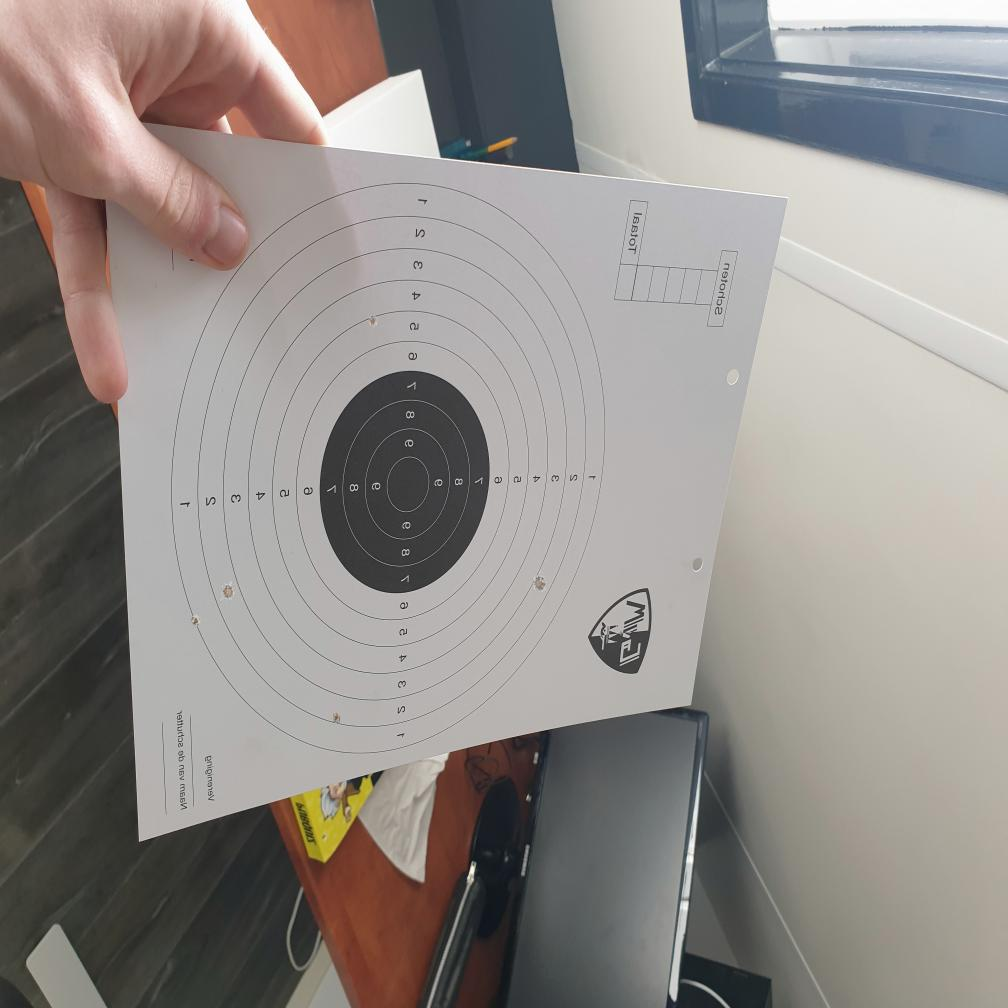1: (190, 613, 200, 627)
2: (221, 581, 235, 602), (330, 712, 341, 726)
3: (534, 573, 546, 592)
5: (368, 312, 378, 329)
Target: (172, 182, 605, 757)
black_contour: (320, 370, 490, 594)
